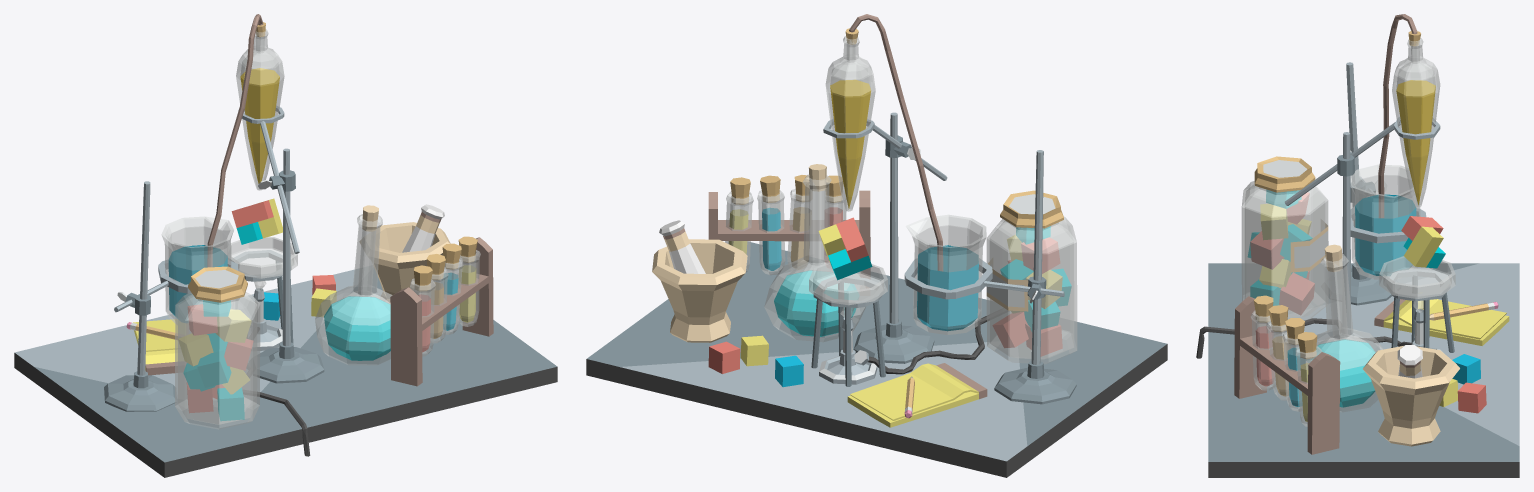
Rendered from lab.dae.
3 views of the same model, side by side, from view 1: azimuth 30°, elevation 25°; view 2: azimuth 150°, elevation 25°; view 3: azimuth 270°, elevation 25° (orthographic). The views are drawn at different scales.
Visible parts, largest first — view 1: mesh61950637, mesh150286071, mesh367212309, mesh4803696, mesh243905525, mesh315320271, mesh1138189113, mesh2086256823, mesh1156432494, mesh253064878, mesh672638094, mesh706801299 (+5 smaller); view 2: mesh61950637, mesh150286071, mesh367212309, mesh315320271, mesh4803696, mesh1156432494, mesh243905525, mesh706801299, mesh253064878, mesh1138189113, mesh2086256823, mesh672638094 (+7 smaller); view 3: mesh61950637, mesh150286071, mesh367212309, mesh315320271, mesh1156432494, mesh243905525, mesh4803696, mesh253064878, mesh706801299, mesh1138189113, mesh672638094, mesh2086256823 (+8 smaller).
Boxes of the visible parts, x1,y1,x2,y2 form: mesh61950637: [14, 267, 557, 477]; mesh150286071: [175, 266, 260, 429]; mesh367212309: [390, 236, 493, 386]; mesh4803696: [315, 205, 392, 364]; mesh243905525: [236, 22, 284, 190]; mesh315320271: [158, 216, 238, 324]; mesh1138189113: [104, 181, 176, 411]; mesh2086256823: [257, 148, 324, 383]; mesh1156432494: [359, 222, 450, 302]; mesh253064878: [228, 237, 297, 343]; mesh672638094: [231, 198, 282, 244]; mesh706801299: [133, 319, 177, 375]; mesh61950637: [586, 241, 1167, 477]; mesh150286071: [986, 190, 1077, 363]; mesh367212309: [708, 175, 870, 288]; mesh315320271: [904, 214, 992, 334]; mesh4803696: [764, 164, 865, 341]; mesh1156432494: [652, 239, 747, 342]; mesh243905525: [823, 28, 875, 211]; mesh706801299: [847, 363, 987, 427]; mesh253064878: [809, 262, 887, 386]; mesh1138189113: [994, 150, 1076, 404]; mesh2086256823: [853, 112, 934, 363]; mesh672638094: [818, 217, 872, 280]; mesh61950637: [1208, 263, 1519, 477]; mesh150286071: [1241, 156, 1328, 320]; mesh367212309: [1234, 295, 1340, 454]; mesh315320271: [1350, 164, 1426, 279]; mesh1156432494: [1363, 346, 1459, 446]; mesh243905525: [1392, 31, 1440, 207]; mesh4803696: [1316, 244, 1383, 412]; mesh253064878: [1379, 256, 1455, 352]; mesh706801299: [1374, 299, 1509, 345]; mesh1138189113: [1328, 62, 1397, 305]; mesh672638094: [1401, 216, 1445, 268]; mesh2086256823: [1317, 132, 1379, 351].
Size of the model in its own units: 2.4 by 1.65 by 2.07.
